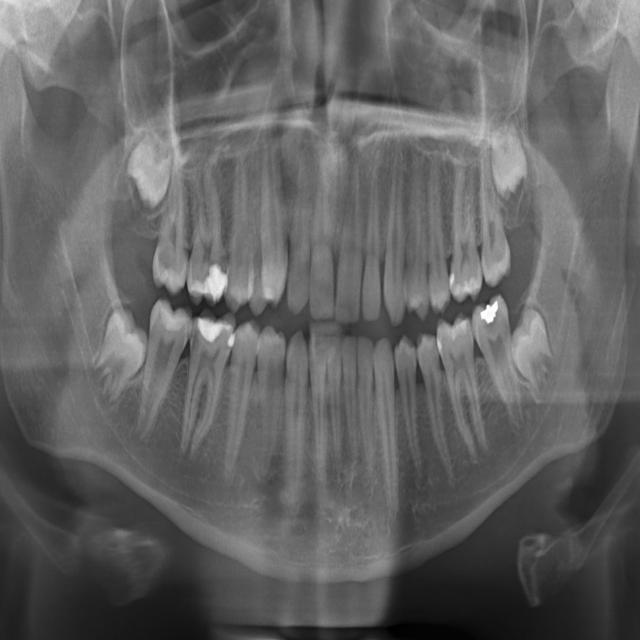AmalgamRestoration: (478, 298, 502, 327)
CompositeResinRestoration: (195, 316, 237, 344), (202, 263, 225, 301), (226, 330, 238, 350), (437, 336, 446, 356), (449, 267, 456, 288)
DentalCaries: (156, 239, 173, 274), (188, 327, 200, 358), (488, 240, 501, 268), (487, 322, 501, 340), (214, 243, 225, 265)
